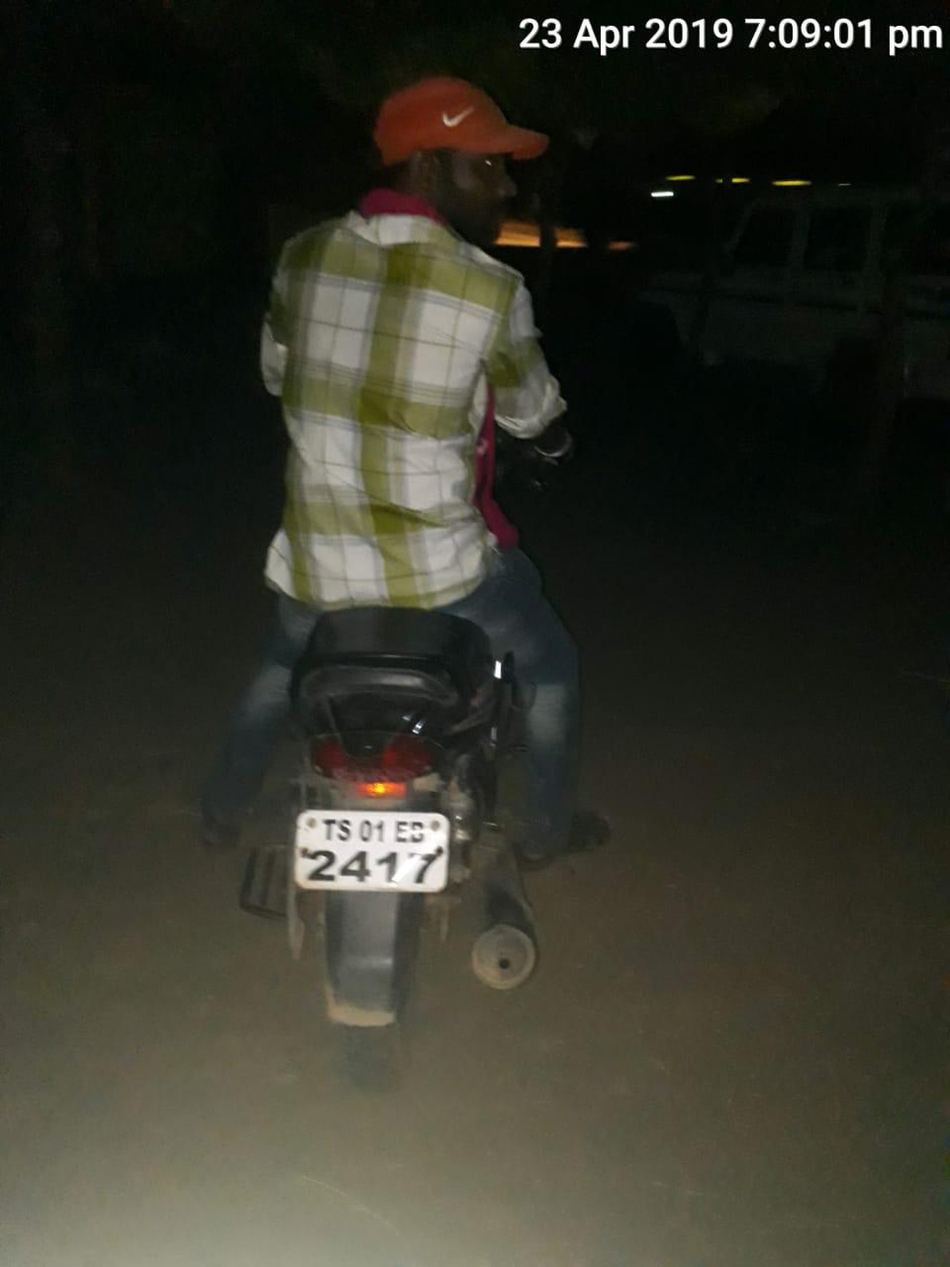plate: (266, 800, 464, 905)
